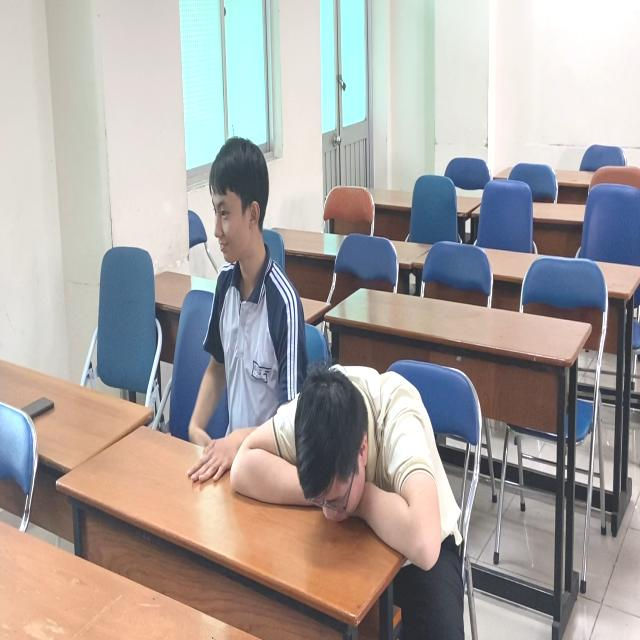sleep: (228, 345, 456, 579)
